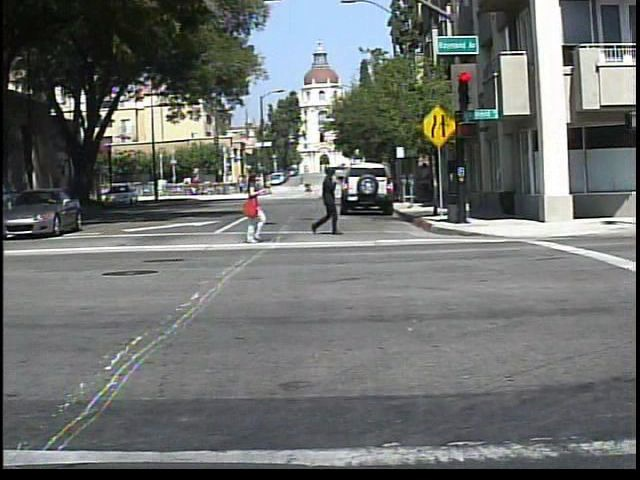person: (233, 168, 273, 244), (309, 164, 349, 238), (256, 175, 273, 198), (304, 180, 314, 197)
